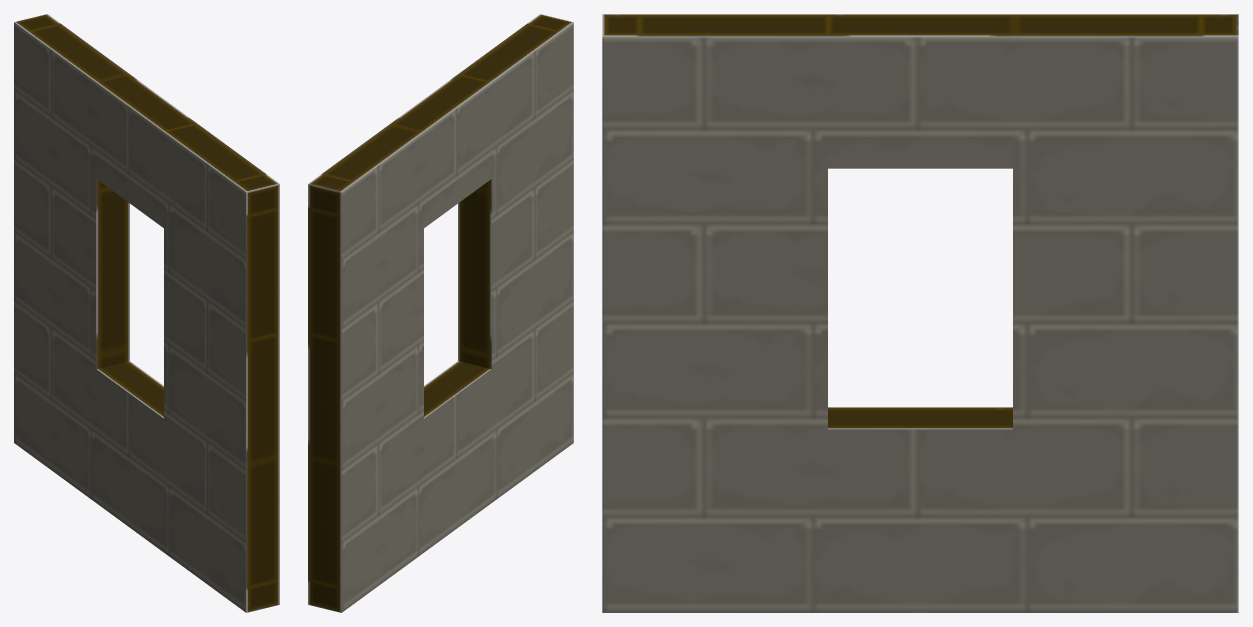
File: Wallb_Window_15.fbx
The picture shows the model from 3 angles, left to right: view 1: azimuth 30°, elevation 25°; view 2: azimuth 150°, elevation 25°; view 3: azimuth 270°, elevation 25°; orthographic projection. The views are drawn at different scales.
Visible parts, largest first — view 1: Wallb_Window_15; view 2: Wallb_Window_15; view 3: Wallb_Window_15.
Part boxes in pixels (x1=…): Wallb_Window_15: x1=14, y1=14, x2=279, y2=612; Wallb_Window_15: x1=308, y1=14, x2=573, y2=612; Wallb_Window_15: x1=602, y1=14, x2=1238, y2=612.
Bounding box in the file's own units: 50 × 600 × 600.
